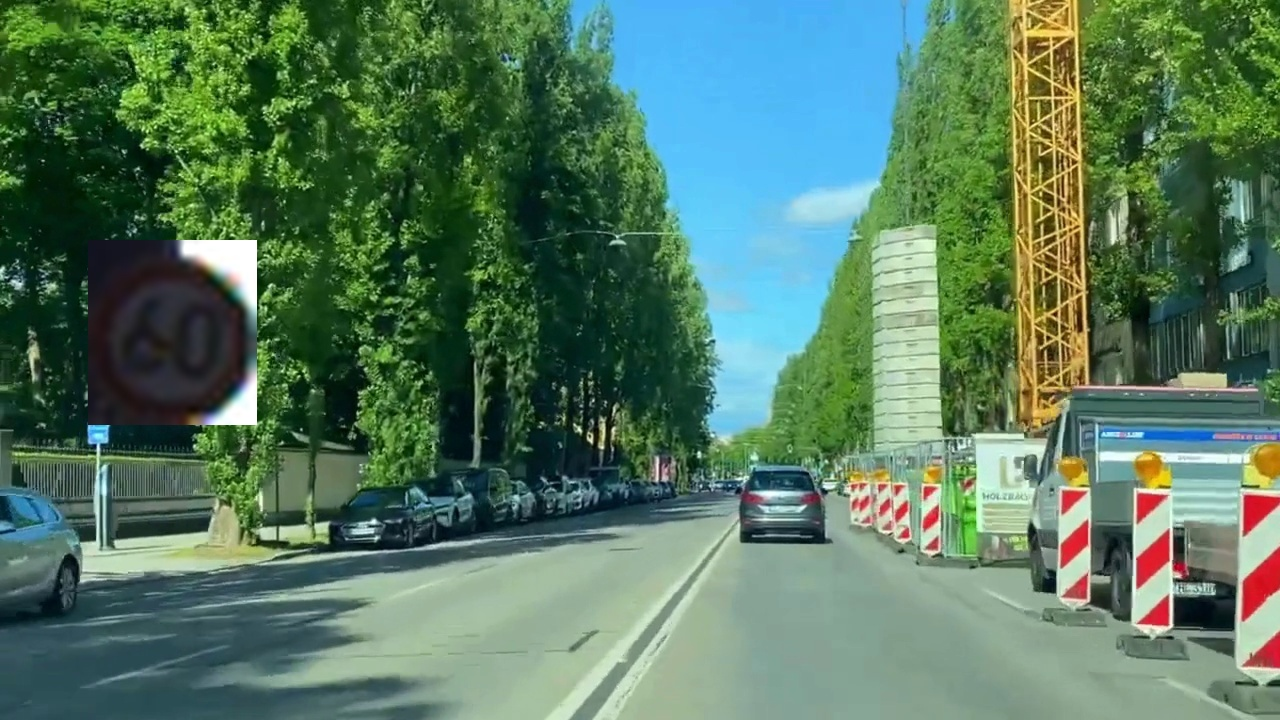Speed 60: (88, 240, 257, 425)
